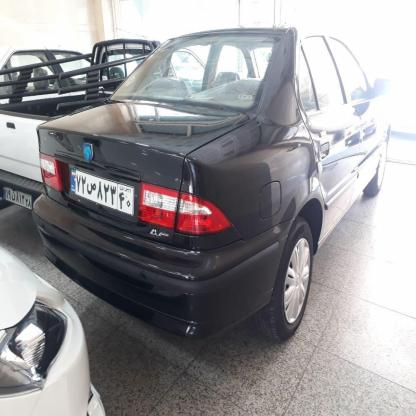Car: (42, 18, 393, 327), (0, 37, 228, 220), (0, 222, 110, 416)
